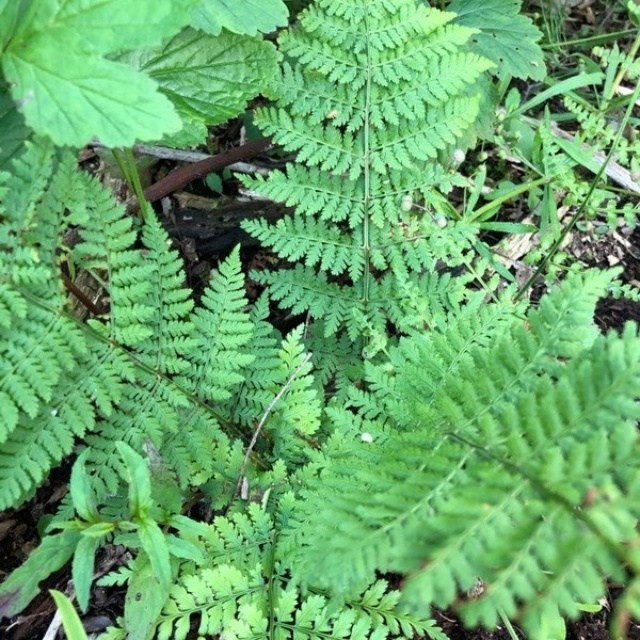obstacle: (239, 23, 608, 621), (59, 49, 352, 516)
